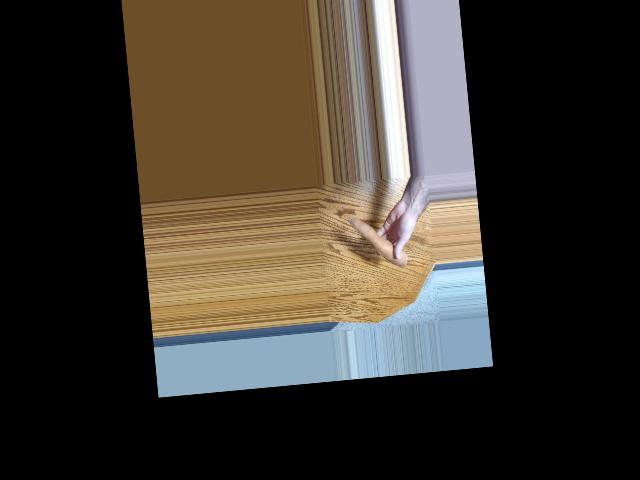sweet_potato: (350, 214, 409, 269)
